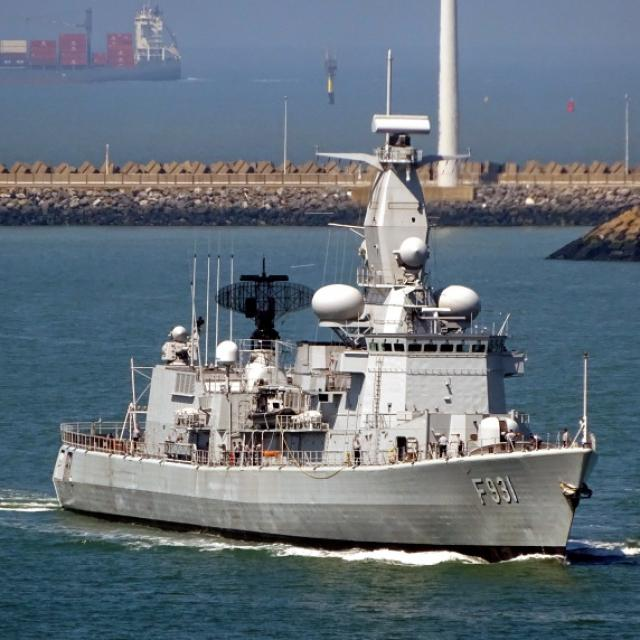Fragata: (46, 109, 610, 571)
